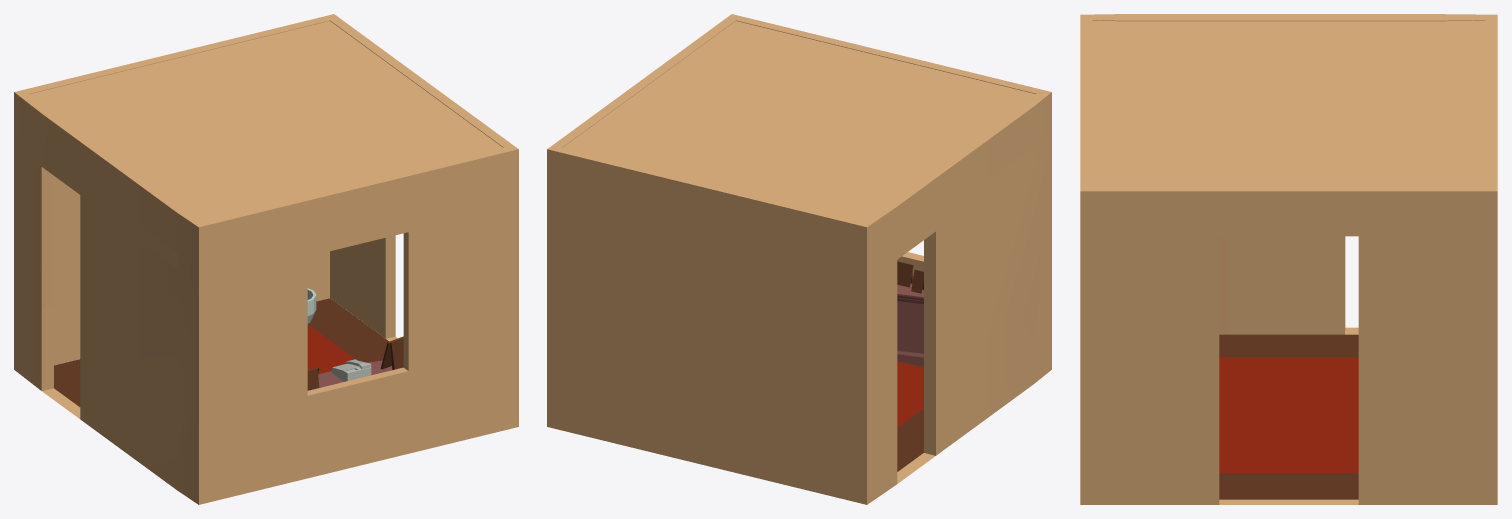
File: Hall.glb
3 renders of one model, left to right at view 1: azimuth 30°, elevation 25°; view 2: azimuth 150°, elevation 25°; view 3: azimuth 270°, elevation 25°, orthographic. The views are drawn at different scales.
Visible parts, largest first — view 1: S_Hall.001, S_Carpet.001, S_Phone, S_Frame_04; view 2: S_Hall.001, S_Buffet, S_Carpet.001; view 3: S_Hall.001, S_Carpet.001.
Boxes of the visible parts, bbox=[...] form: S_Hall.001: bbox=[14, 14, 518, 504]; S_Carpet.001: bbox=[307, 326, 355, 374]; S_Phone: bbox=[332, 359, 371, 381]; S_Frame_04: bbox=[380, 336, 403, 369]; S_Hall.001: bbox=[547, 14, 1051, 504]; S_Buffet: bbox=[897, 283, 923, 365]; S_Carpet.001: bbox=[897, 361, 923, 427]; S_Hall.001: bbox=[1080, 14, 1497, 504]; S_Carpet.001: bbox=[1219, 357, 1358, 472].
Size of the model in its own units: 3.2 by 2.65 by 3.19.
